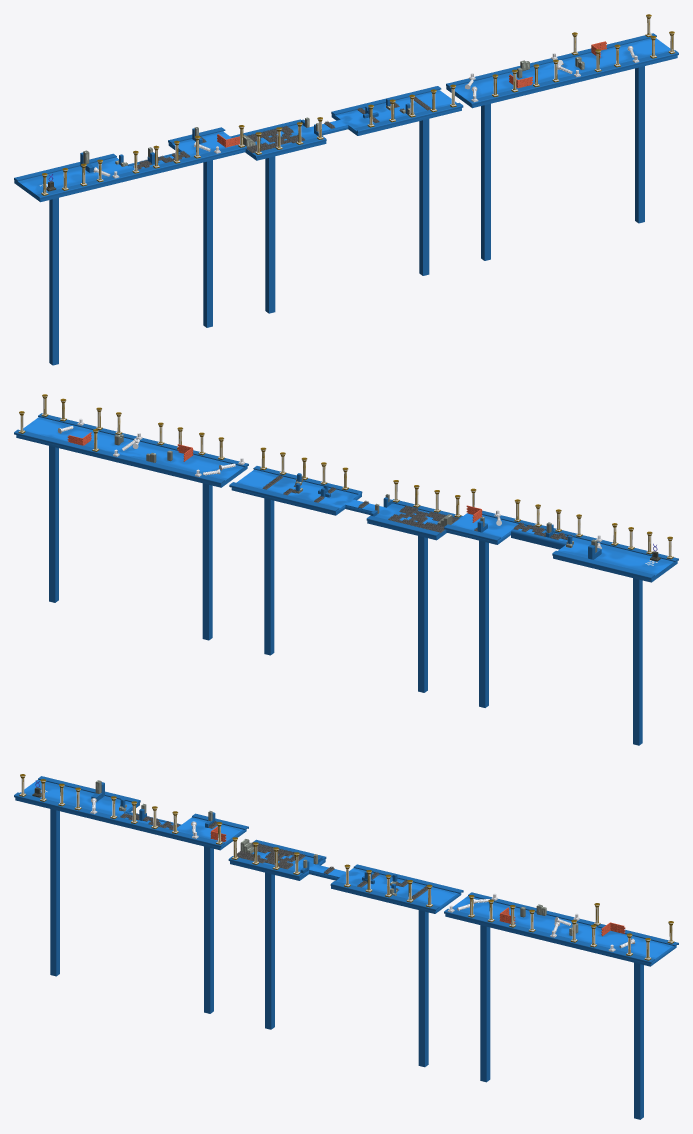
The picture shows the model from 3 angles, top to bottom: view 1: azimuth 30°, elevation 25°; view 2: azimuth 150°, elevation 25°; view 3: azimuth 330°, elevation 25°; orthographic projection.
Visible parts, largest first — view 1: Cube, Cube.042, Cube.014, Cube.018, Cube.017, Cube.045, Cube.046, Cube.013, Cube.012, Cube.043, Cube.001, Cube.015 (+3 smaller); view 2: Cube, Cube.042, Cube.014, Cube.013, Cube.017, Cube.046, Cube.045, Cube.018, Cube.012, Cube.002, Cube.016, Cube.044 (+4 smaller); view 3: Cube, Cube.042, Cube.014, Cube.017, Cube.013, Cube.045, Cube.046, Cube.012, Cube.018, Cube.001, Cube.043, Cube.015 (+3 smaller).
Part boxes in pixels (box(x1,y1,x2,y2)): Cube: box(446, 38, 677, 108); Cube.042: box(14, 131, 245, 202); Cube.014: box(245, 90, 461, 160); Cube.018: box(265, 156, 275, 313); Cube.017: box(419, 119, 429, 275); Cube.045: box(203, 160, 212, 327); Cube.046: box(49, 198, 58, 365); Cube.013: box(481, 103, 490, 260); Cube.012: box(635, 66, 644, 223); Cube.043: box(36, 145, 246, 199); Cube.001: box(467, 50, 678, 105); Cube.015: box(252, 102, 463, 157); Cube: box(16, 417, 247, 487); Cube.042: box(446, 513, 677, 582); Cube.014: box(231, 469, 446, 540); Cube.013: box(202, 483, 212, 640); Cube.017: box(264, 498, 274, 655); Cube.046: box(633, 578, 642, 745); Cube.045: box(479, 540, 488, 707); Cube.018: box(418, 536, 427, 692); Cube.012: box(49, 446, 58, 602); Cube.002: box(14, 429, 224, 484); Cube.016: box(229, 482, 440, 537); Cube.044: box(444, 524, 654, 579); Cube: box(445, 896, 676, 966); Cube.042: box(15, 779, 246, 850); Cube.014: box(230, 851, 461, 913); Cube.017: box(418, 910, 428, 1067); Cube.013: box(480, 925, 490, 1082); Cube.045: box(204, 846, 213, 1013); Cube.046: box(50, 809, 59, 976); Cube.012: box(634, 962, 643, 1119); Cube.018: box(265, 872, 274, 1029); Cube.001: box(444, 908, 654, 963); Cube.043: box(14, 792, 224, 847); Cube.015: box(228, 856, 439, 911).
Bounding box in the file's own units: 62300 × 18900 × 4612.
